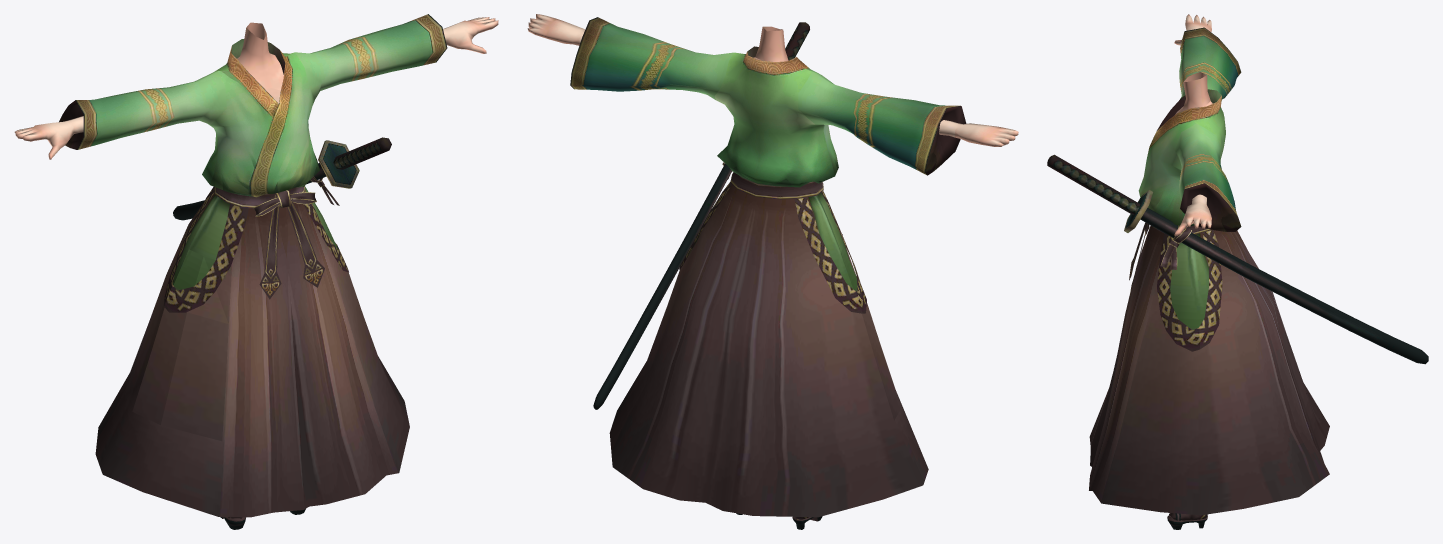
Rendered from body9012.fbx.
3 views of the same model, side by side, from view 1: azimuth 30°, elevation 25°; view 2: azimuth 150°, elevation 25°; view 3: azimuth 270°, elevation 25° (orthographic). The views are drawn at different scales.
Visible parts, largest first — view 1: body9012; view 2: body9012; view 3: body9012.
Part boxes in pixels (x1,y1,x2,y2): body9012: (14,14,498,529); body9012: (527,14,1018,529); body9012: (1047,14,1428,529).
Size of the model in its own units: 1.13 by 1.1 by 0.8655.
